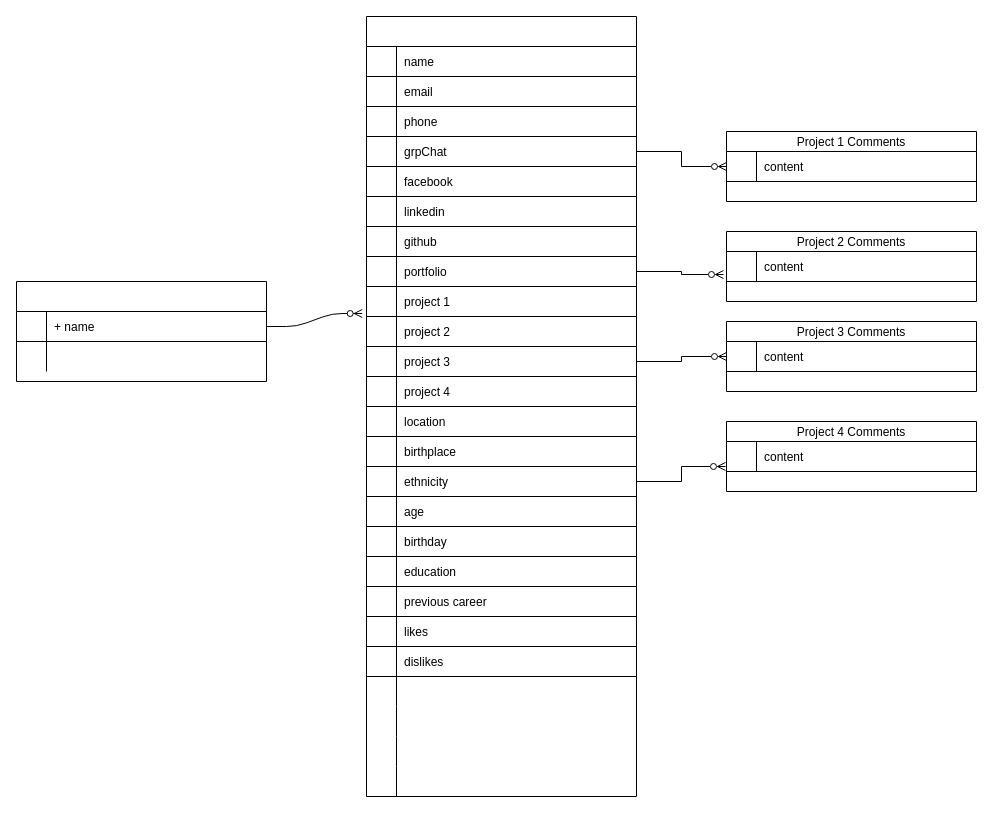
Some shapes in this 993 by 813 pixel diagram are drawn without their labels. The box of each missing label's shape, as (x1, y1, x2, y2) in pixels:
Profile: (366, 16, 636, 796)
User: (16, 280, 266, 382)
